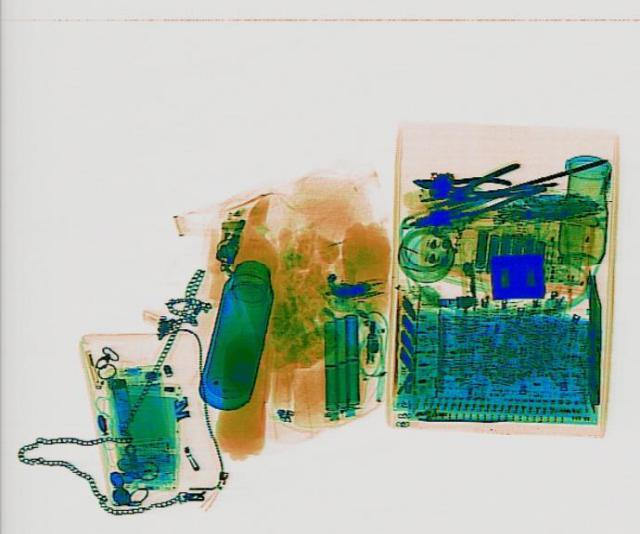Pliers: (410, 168, 510, 198)
